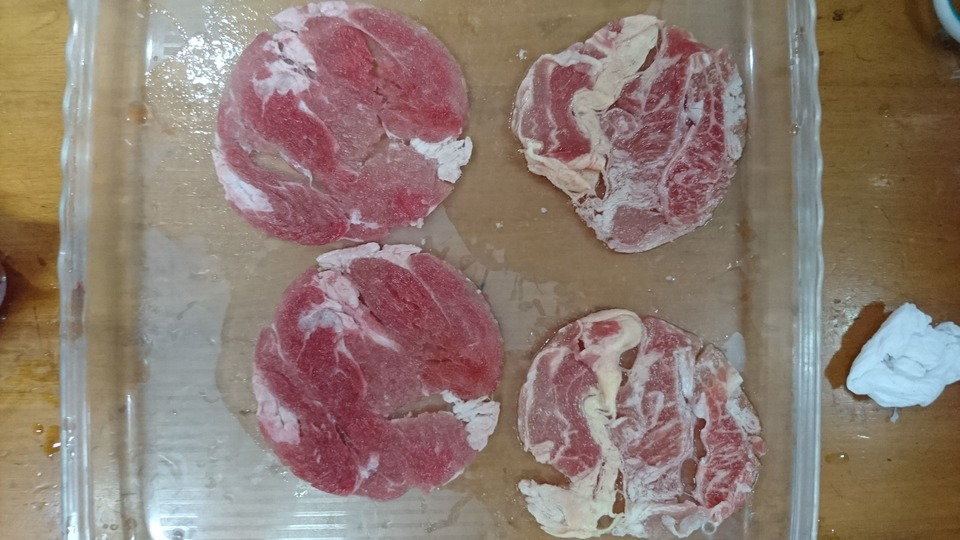restructured meat: (223, 252, 510, 494), (221, 17, 497, 246), (522, 302, 784, 539), (508, 13, 750, 248)
